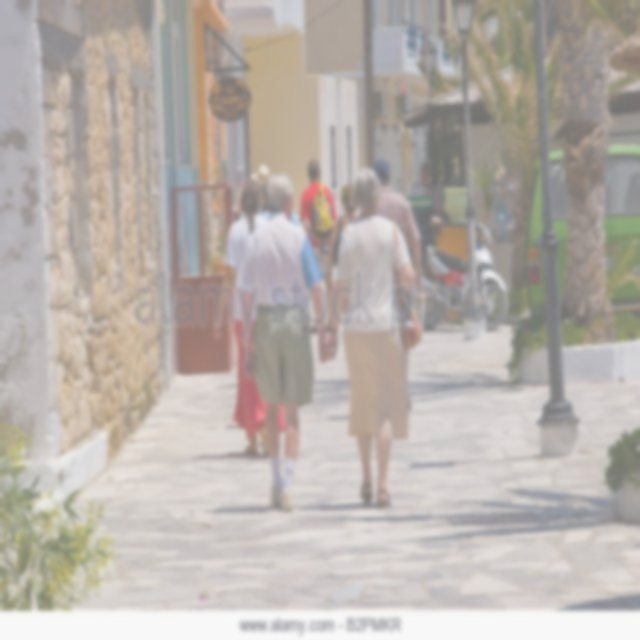pessoa: (320, 164, 429, 513), (238, 171, 335, 514), (234, 170, 320, 438), (352, 158, 425, 413), (223, 174, 272, 457), (299, 157, 341, 336), (413, 146, 447, 268), (324, 180, 358, 293), (231, 166, 245, 221)
